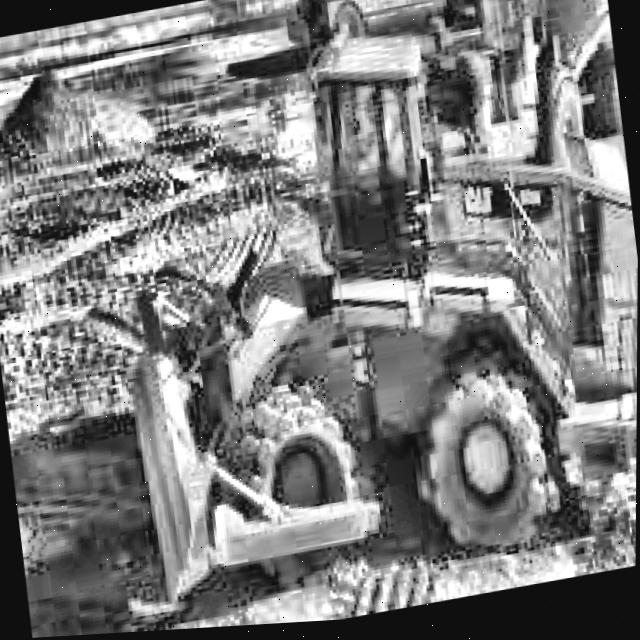dump_truck: (530, 0, 621, 136), (290, 0, 450, 44)
